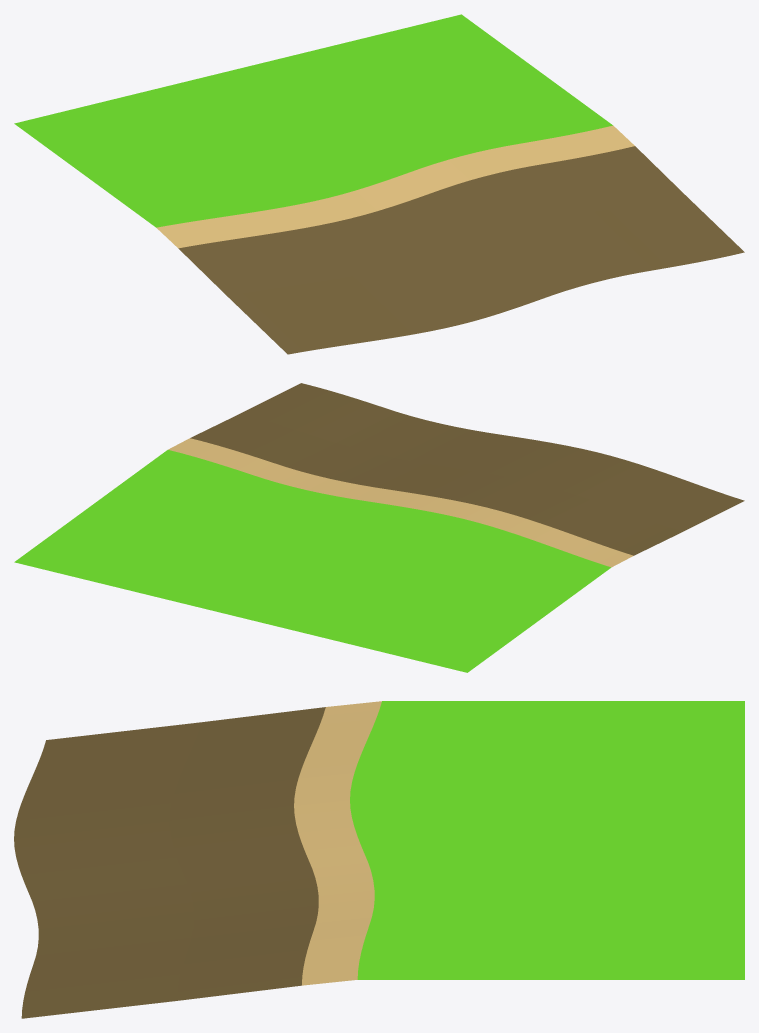
Rendered from ground fixed.fbx.
3 views of the same model, one above another, from view 1: azimuth 30°, elevation 25°; view 2: azimuth 150°, elevation 25°; view 3: azimuth 270°, elevation 25° (orthographic). The views are drawn at different scales.
Visible parts, largest first — view 1: Plane.025; view 2: Plane.025; view 3: Plane.025.
Part boxes in pixels (bbox=[...]): Plane.025: bbox=[14, 14, 744, 354]; Plane.025: bbox=[14, 383, 744, 672]; Plane.025: bbox=[14, 701, 744, 1018].
Bounding box in the file's own units: 13725 × 895 × 15214.
